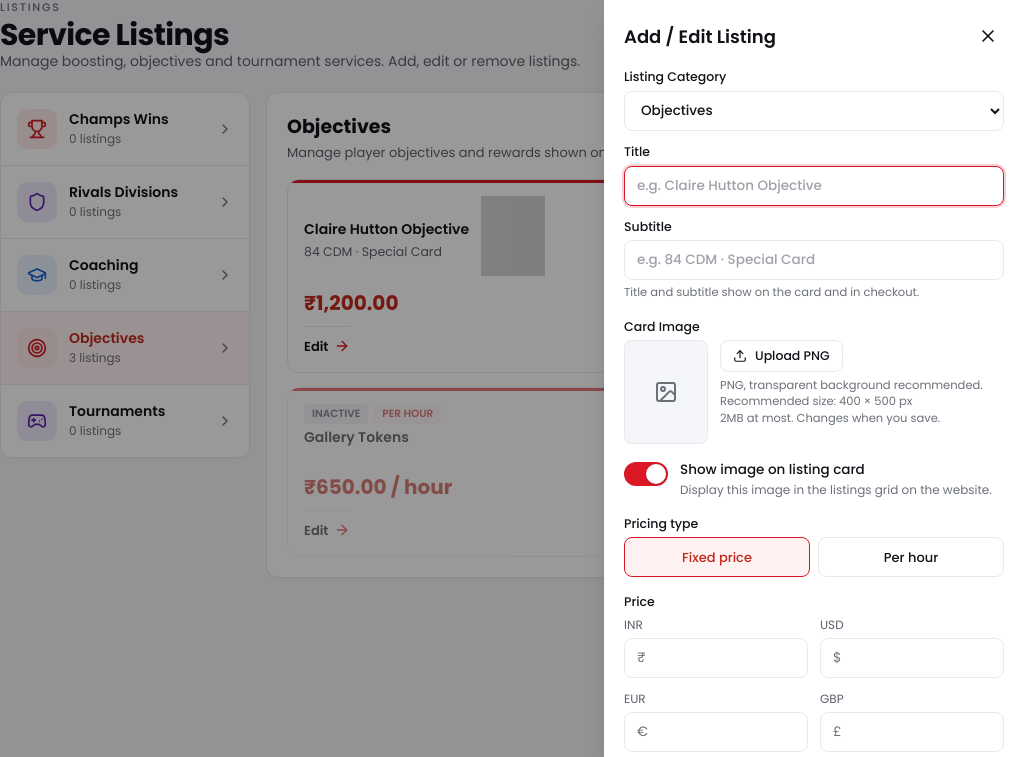
Add / Edit Listing › previews the public card before saving
Type "Assist 8 Objective" into the field labelled "Title".
click(814, 186); type("Assist 8 Objective")  # box [624,166,1004,206]
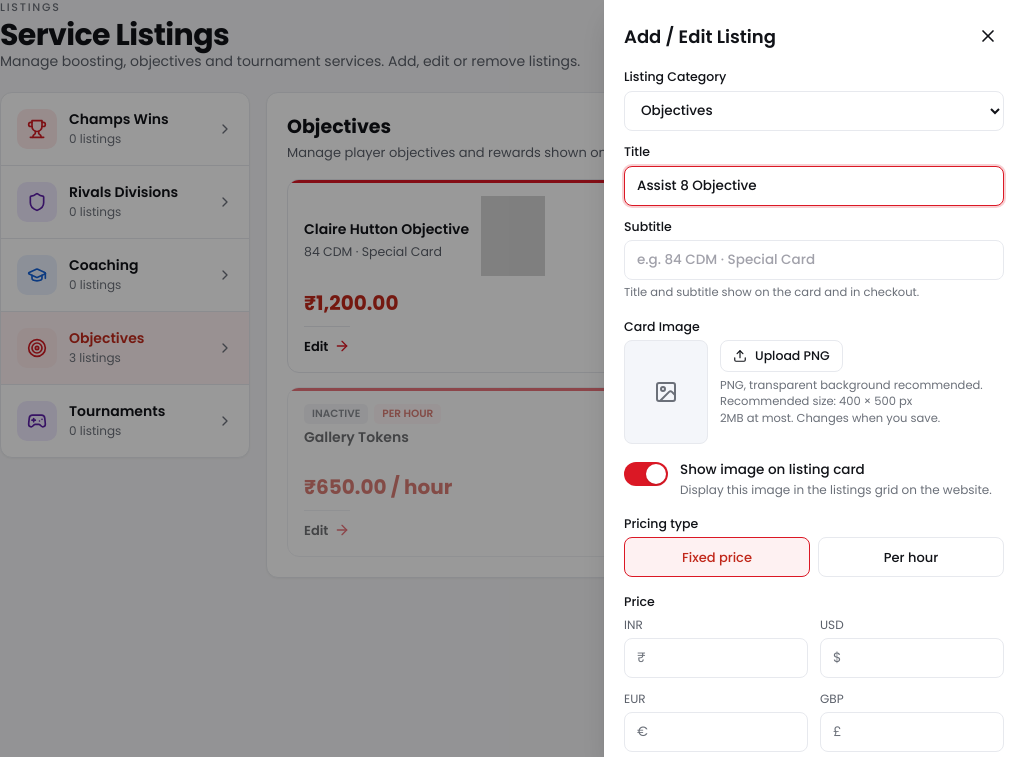
Type "150 SP Reward" into the field labelled "Subtitle".
click(814, 260); type("150 SP Reward")  # box [624,240,1004,280]
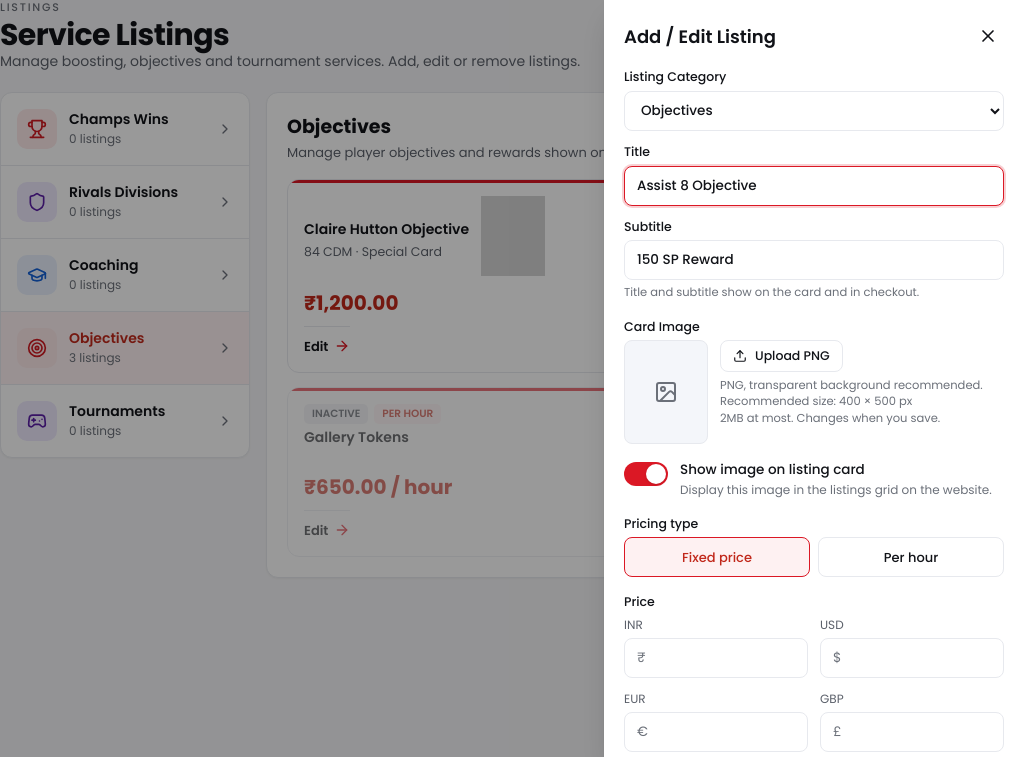
Type "650" into the field named "Price in INR".
click(726, 658); type("650")  # box [646,648,807,668]
(page scrolled)
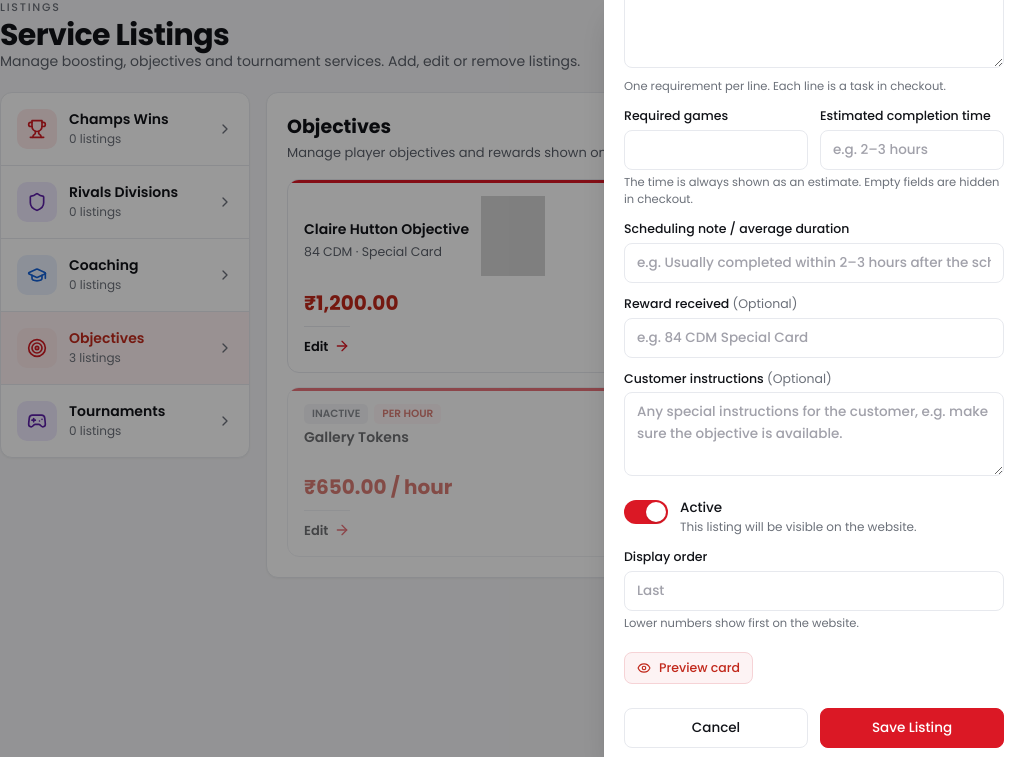
Click the button "Preview card".
click(688, 668)  # box [624,652,753,684]
(page scrolled)
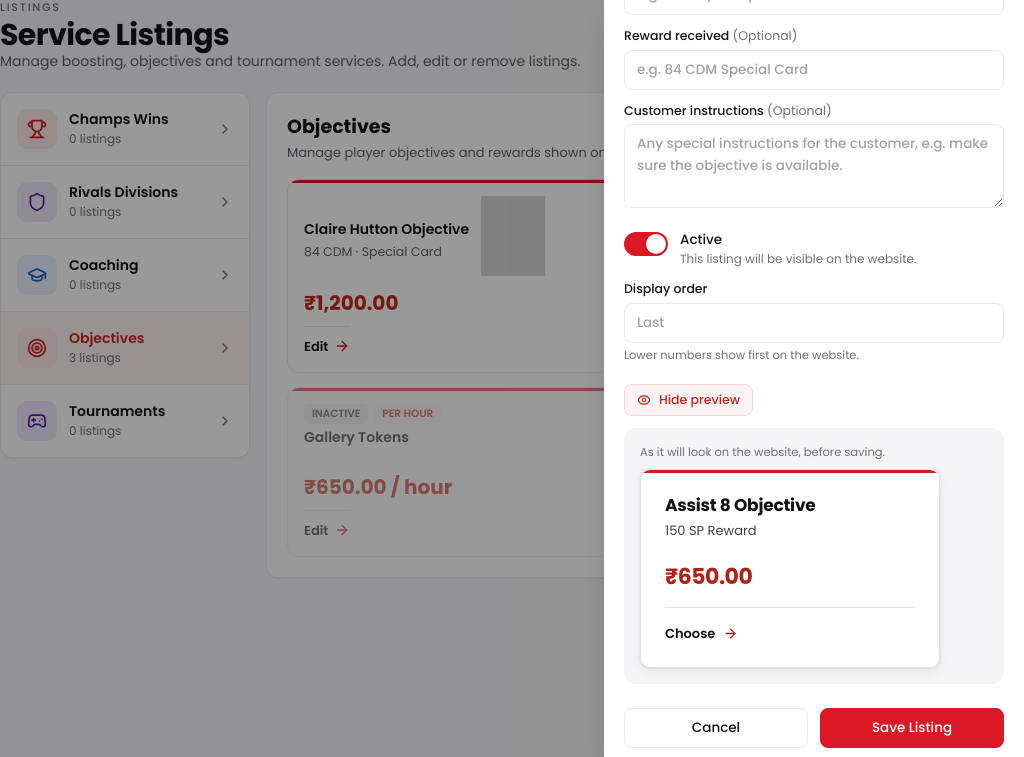
Now the element with test id "card-preview" shows "Assist 8 Objective", box [640,469,940,668]
Now the element with test id "card-preview" shows "150 SP Reward", box [640,469,940,668]
Now the element with test id "card-preview" shows "₹650", box [640,469,940,668]
